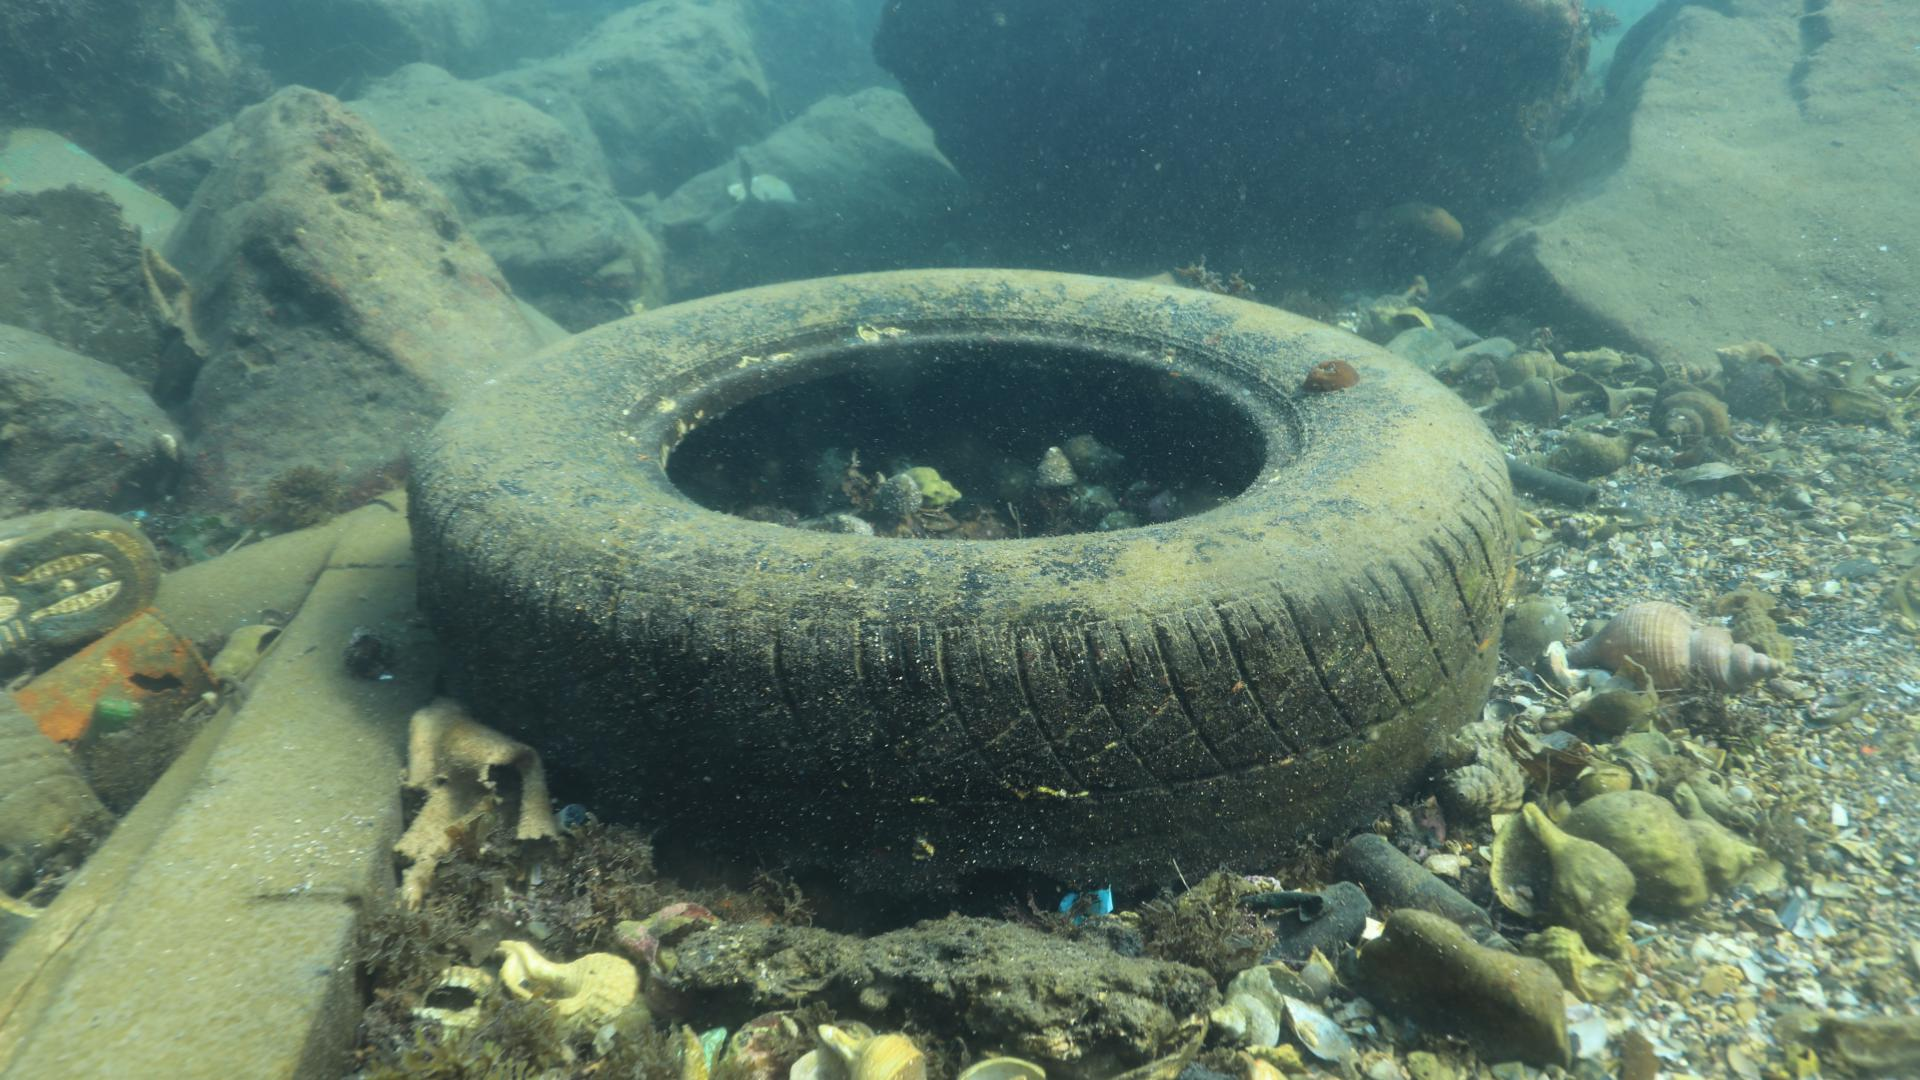tire: (405, 258, 1519, 939)
wood: (0, 512, 436, 1080)
